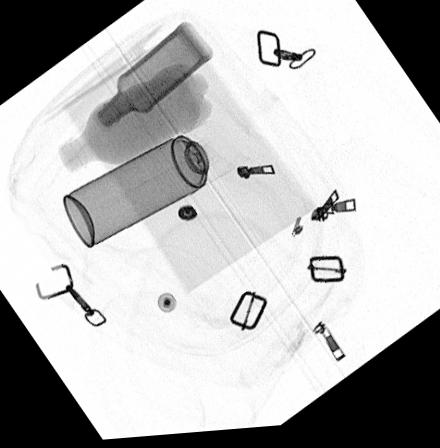Sprayer: (62, 123, 238, 249)
